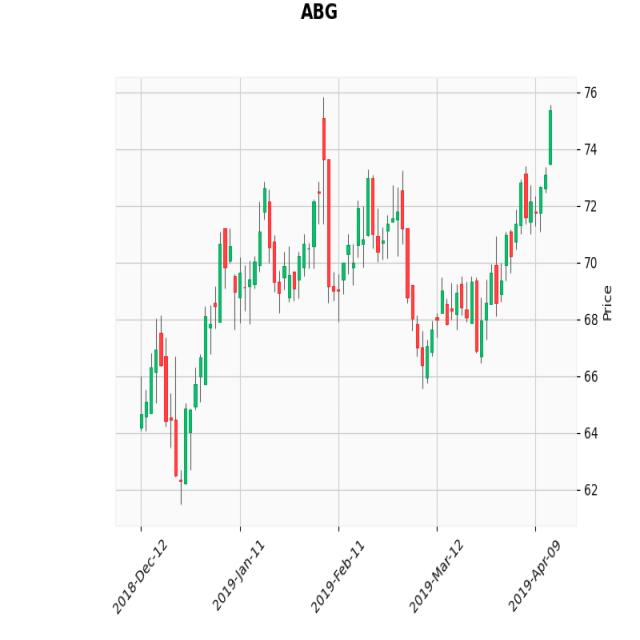Head-Shoulders: (248, 108, 388, 317)
